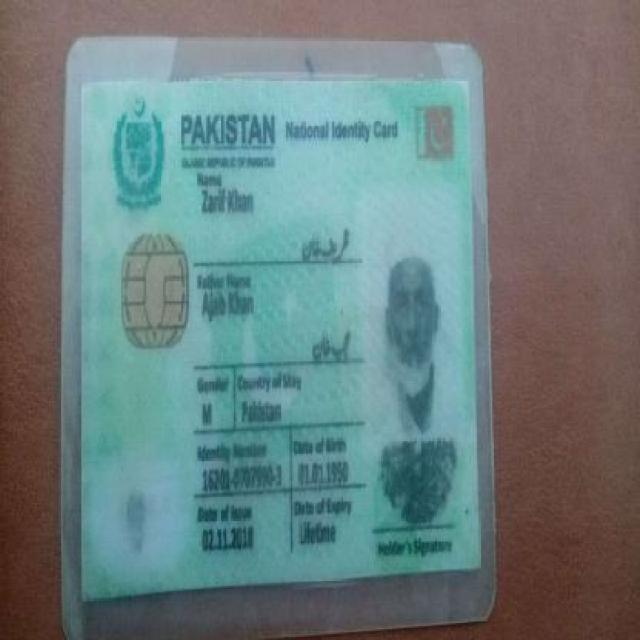Front: (74, 71, 489, 600)
